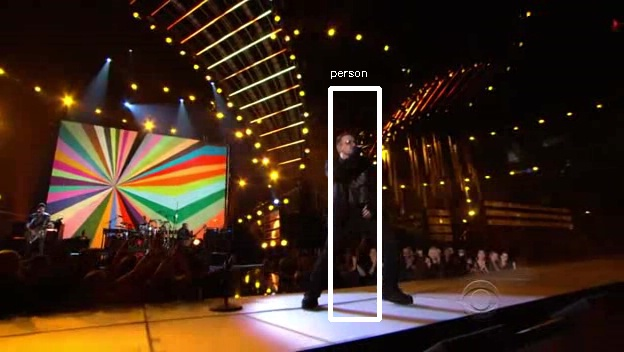person: (326, 135, 392, 254), (323, 135, 389, 254), (329, 135, 395, 254), (326, 132, 392, 251), (326, 138, 392, 257)
target_negative: (274, 80, 457, 348), (220, 189, 448, 314), (456, 282, 581, 340), (239, 132, 300, 180), (559, 335, 593, 345), (606, 156, 612, 179)
